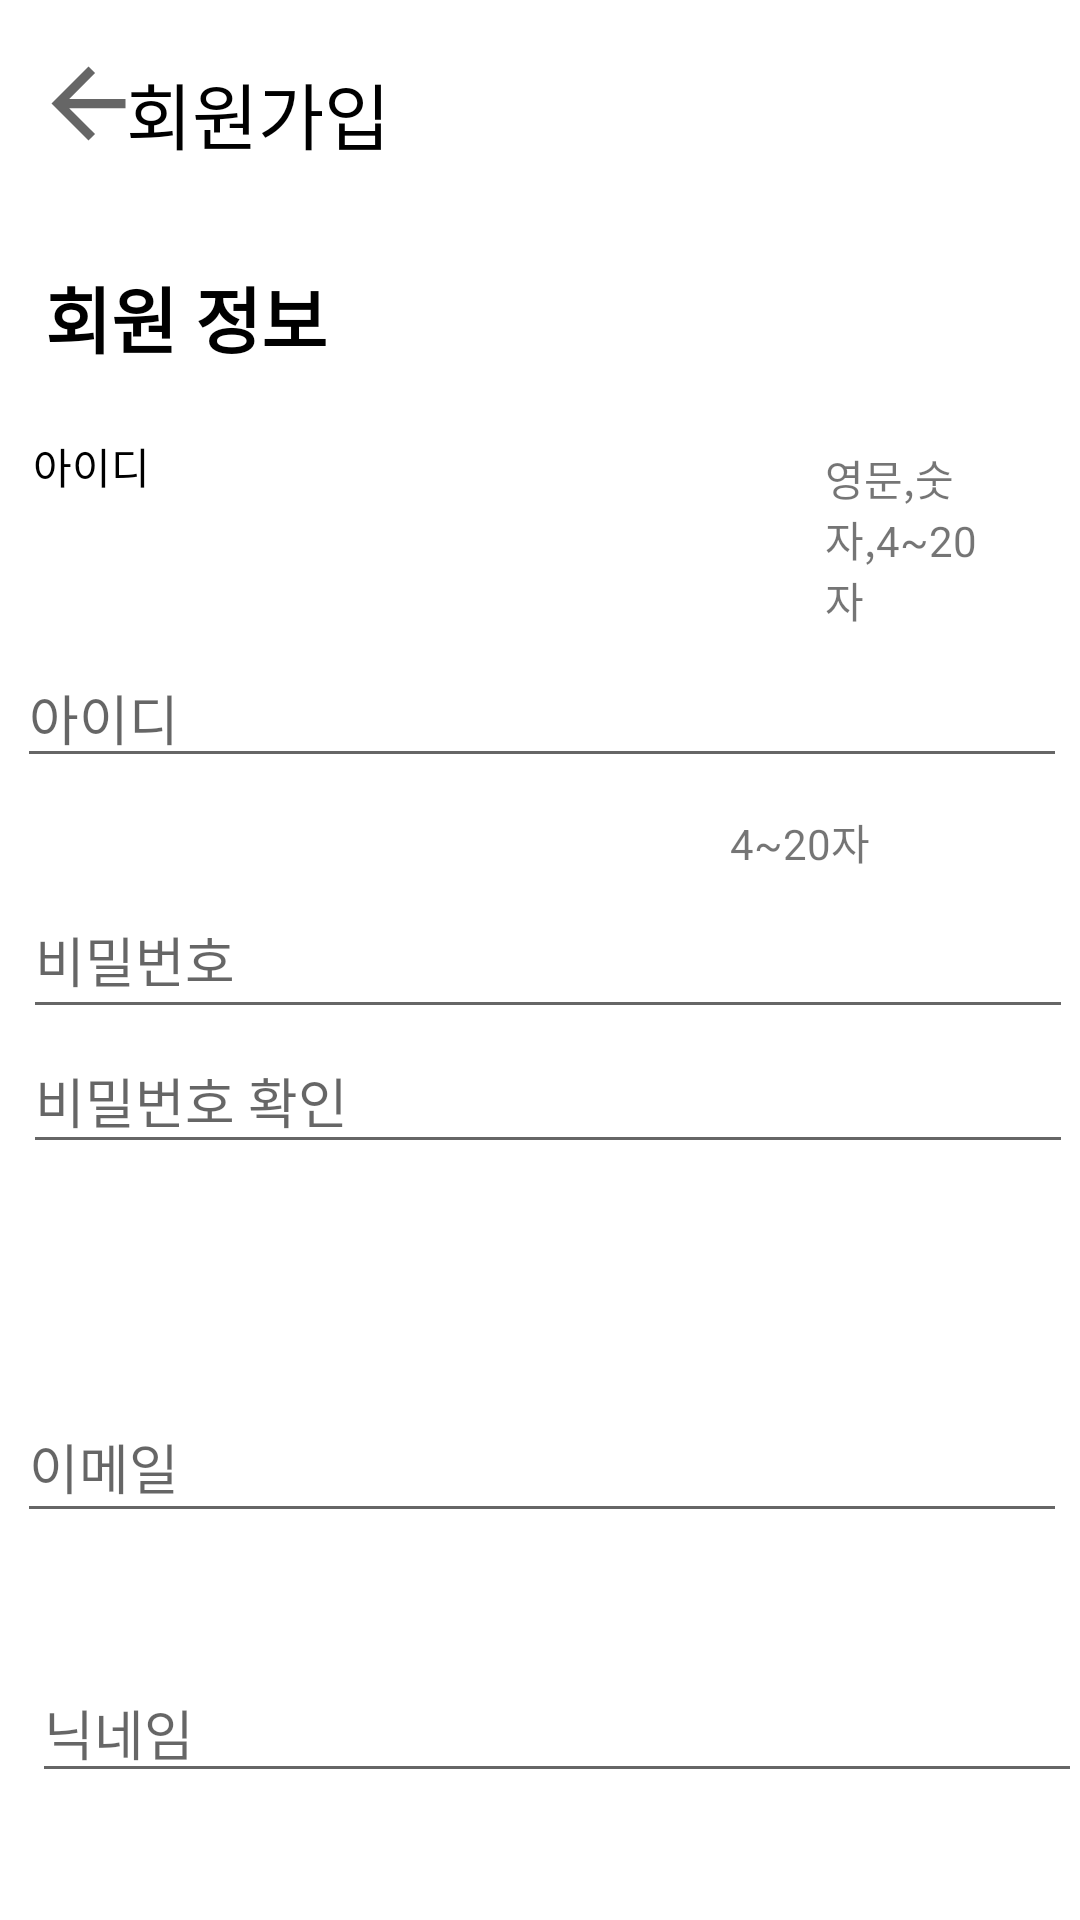

Screen size 1080 × 1920. Icon name, then its center in pixels as (x,y):
arrow back: (88,103)
